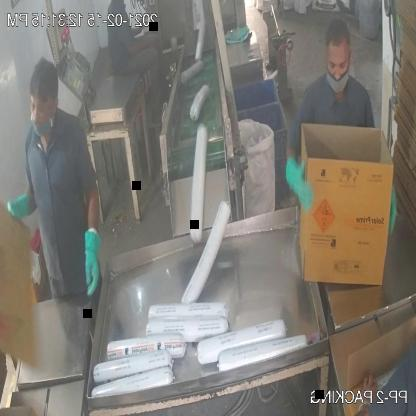glove: (278, 150, 328, 219), (74, 208, 108, 308)
no_glove: (114, 25, 160, 71)
